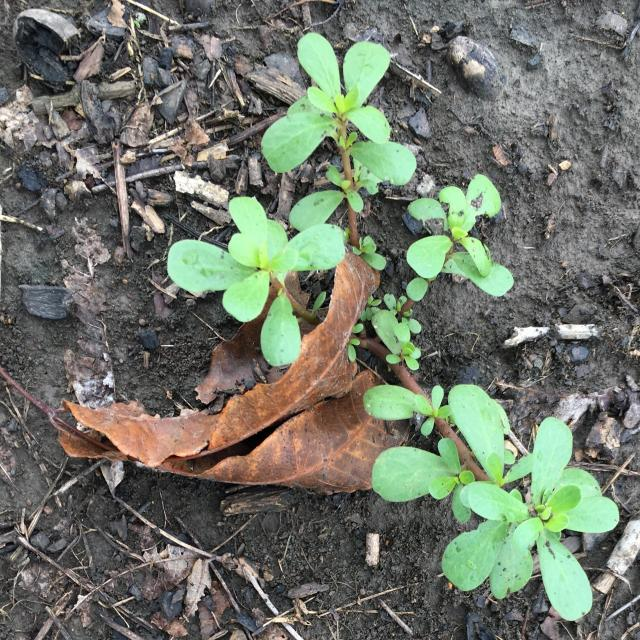Purslane: (168, 32, 621, 621)
